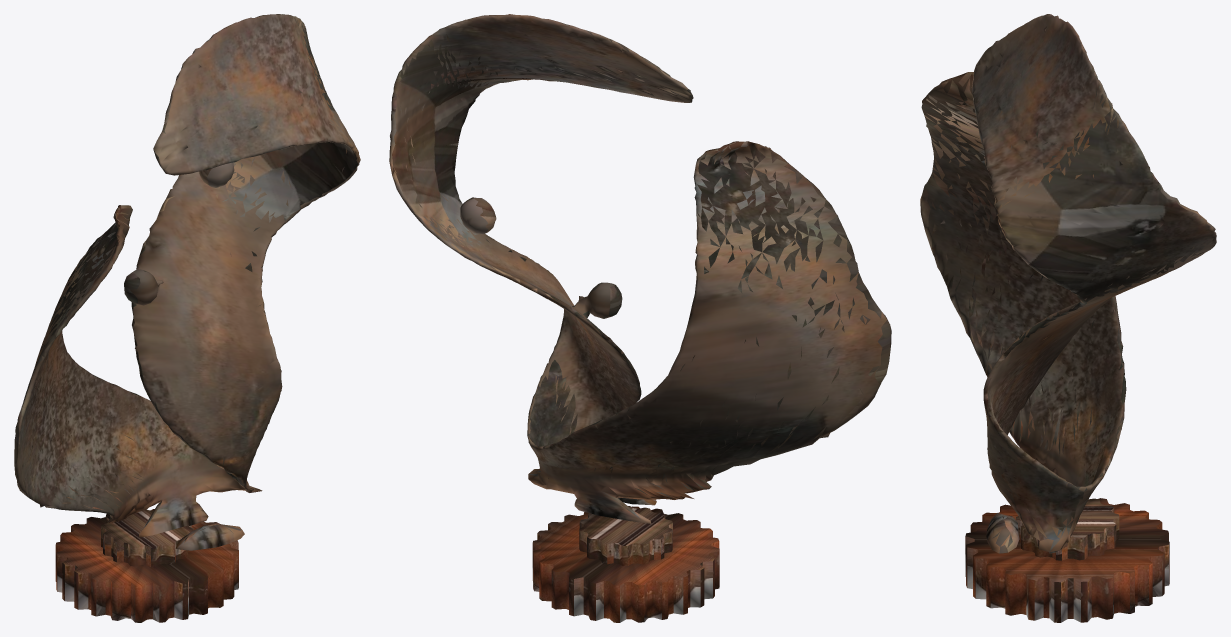
The model's file is hy3d-esc-040.glb.
3 views of the same model, side by side, from view 1: azimuth 30°, elevation 25°; view 2: azimuth 150°, elevation 25°; view 3: azimuth 270°, elevation 25° (orthographic). The views are drawn at different scales.
Parts seen in each view (by area): view 1: world; view 2: world; view 3: world.
Part boxes in pixels (x1=…): world: x1=14, y1=14, x2=360, y2=622; world: x1=389, y1=14, x2=891, y2=622; world: x1=920, y1=14, x2=1216, y2=622.
Size of the model in its own units: 0.8743 by 1.16 by 0.5218.
1 material, 1 textured.
